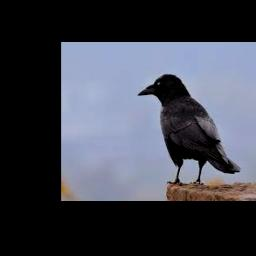Crow: (137, 73, 240, 185)
